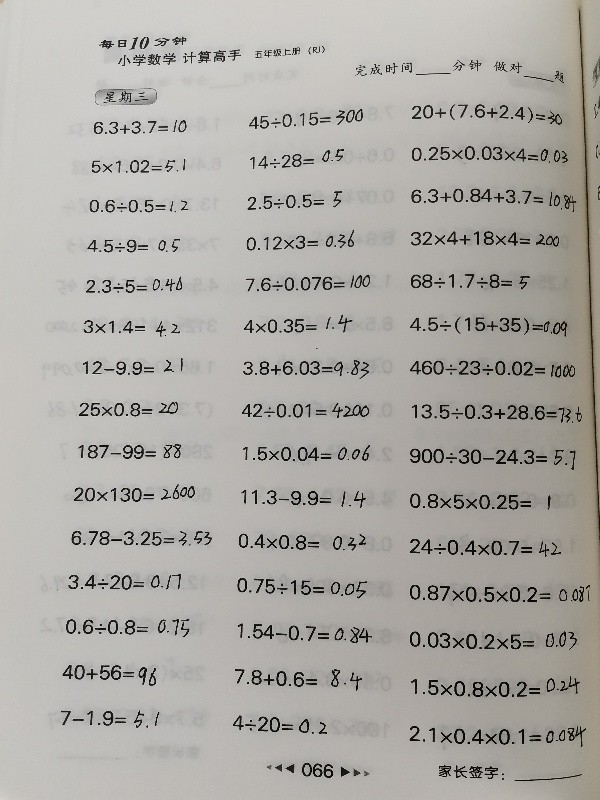equation: (403, 178, 579, 217), (405, 579, 595, 610), (406, 722, 590, 751), (407, 354, 583, 384), (407, 401, 588, 429), (240, 343, 373, 381), (407, 673, 583, 701), (405, 442, 579, 470), (408, 100, 568, 129), (406, 627, 581, 653), (406, 312, 570, 338), (405, 490, 557, 516), (407, 142, 571, 166), (231, 662, 365, 691), (406, 535, 564, 559), (407, 226, 563, 250), (232, 575, 370, 601), (234, 621, 375, 646), (68, 527, 216, 550), (61, 615, 192, 640), (238, 486, 369, 511), (234, 530, 369, 554), (70, 482, 199, 506), (239, 442, 373, 465), (241, 272, 374, 295), (242, 227, 358, 253), (239, 400, 374, 422), (407, 270, 534, 293), (57, 706, 164, 732), (64, 570, 184, 593), (240, 312, 355, 336), (59, 659, 161, 686), (245, 108, 366, 130), (244, 187, 345, 212), (76, 440, 185, 463), (79, 316, 183, 340), (78, 355, 186, 378), (229, 712, 330, 736), (75, 398, 182, 420), (247, 148, 348, 171), (82, 274, 186, 296), (87, 155, 189, 177), (86, 196, 192, 217), (89, 116, 190, 138), (83, 235, 183, 257)
